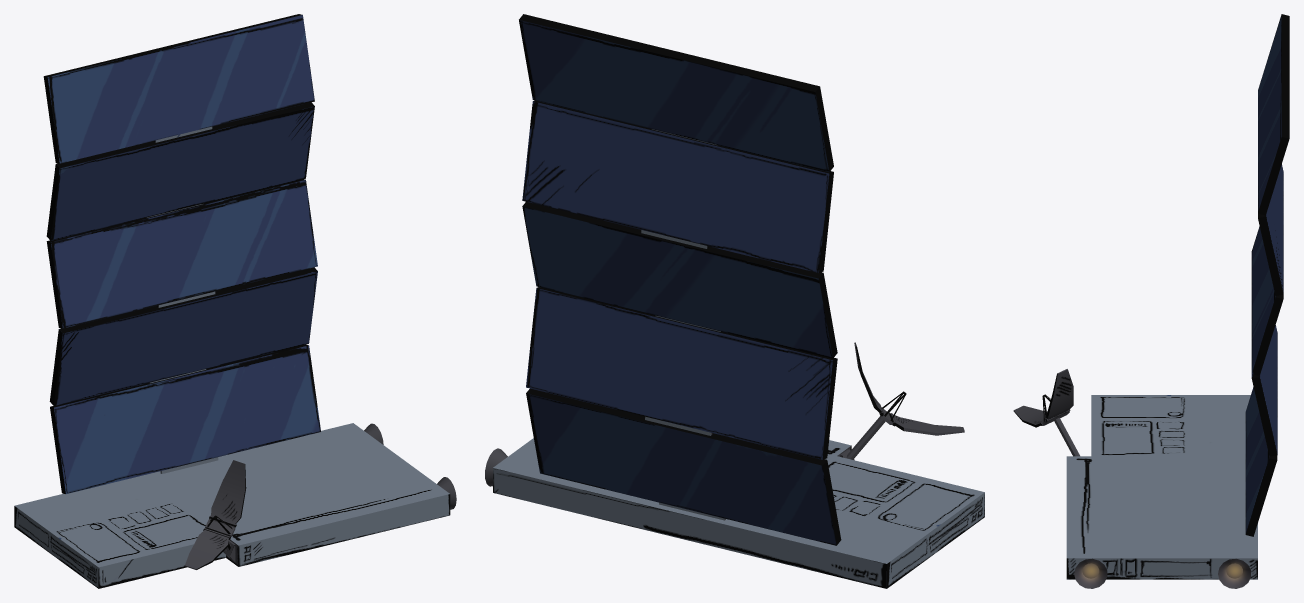
Rendered from asteroid_satellite_2.gltf.
3 renders of one model, left to right at view 1: azimuth 30°, elevation 25°; view 2: azimuth 150°, elevation 25°; view 3: azimuth 270°, elevation 25°, orthographic. The views are drawn at different scales.
Parts seen in each view (by area): view 1: asteroid_satellite_2; view 2: asteroid_satellite_2; view 3: asteroid_satellite_2.
Part boxes in pixels (x1,y1,x2,y2): asteroid_satellite_2: [14, 14, 456, 588]; asteroid_satellite_2: [485, 14, 984, 588]; asteroid_satellite_2: [1013, 14, 1289, 588].
Size of the model in its own units: 1.39 by 1.66 by 0.9682.
Materials: 1 (1 with a texture image).
